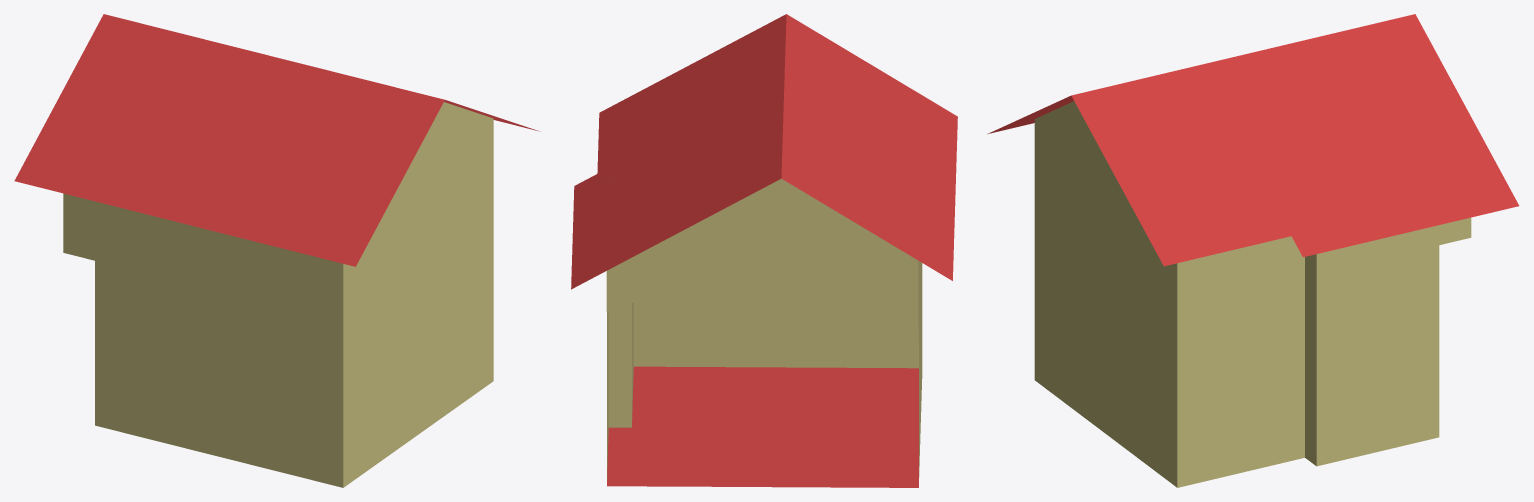
The picture shows the model from 3 angles, left to right: view 1: azimuth 30°, elevation 25°; view 2: azimuth 150°, elevation 25°; view 3: azimuth 270°, elevation 25°; orthographic projection.
Size of the model in its own units: 14.4 by 15.06 by 10.69.
